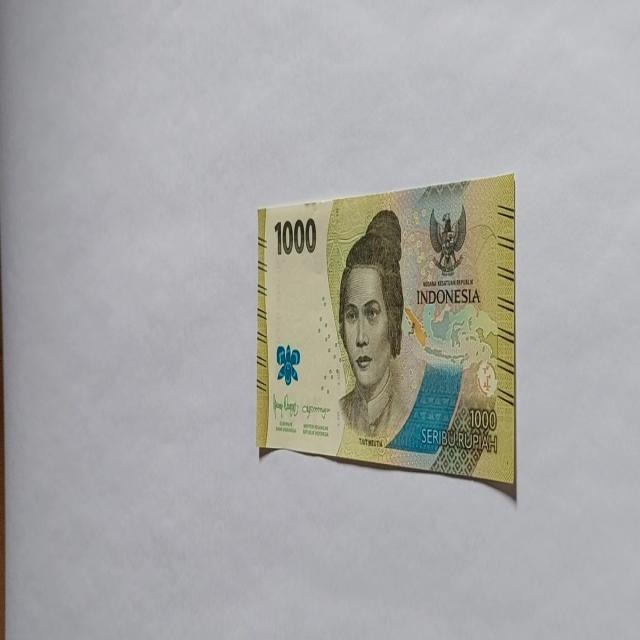seribu rupiah kertas: (255, 172, 517, 498)
